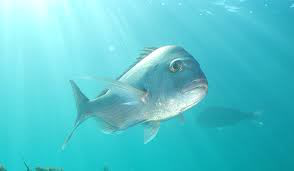tai: (57, 27, 213, 156)
